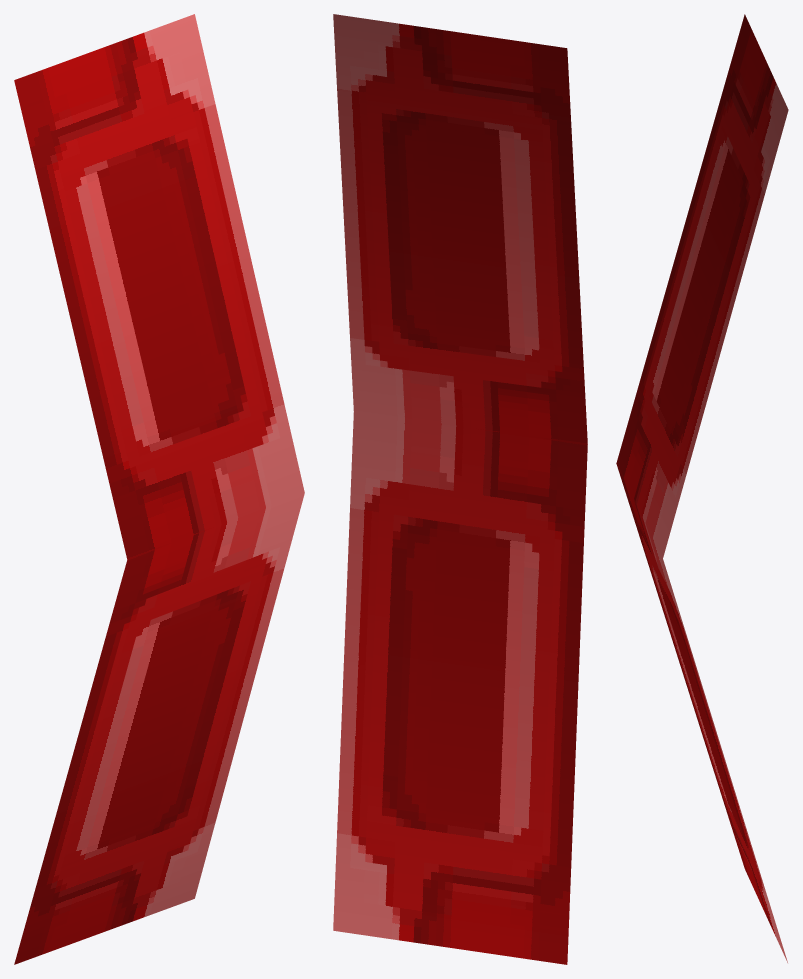
File: acc_glass_red.dae
3 views of the same model, side by side, from view 1: azimuth 30°, elevation 25°; view 2: azimuth 150°, elevation 25°; view 3: azimuth 270°, elevation 25° (orthographic). The views are drawn at different scales.
Visible parts, largest first — view 1: acc_glass_red; view 2: acc_glass_red; view 3: acc_glass_red.
Boxes of the visible parts, <box> form: acc_glass_red: <box>14,14,304,964</box>; acc_glass_red: <box>333,14,587,964</box>; acc_glass_red: <box>616,14,788,962</box>.
Bounding box in the file's own units: 6.31 × 21.48 × 3.92.
1 material, 1 textured.
